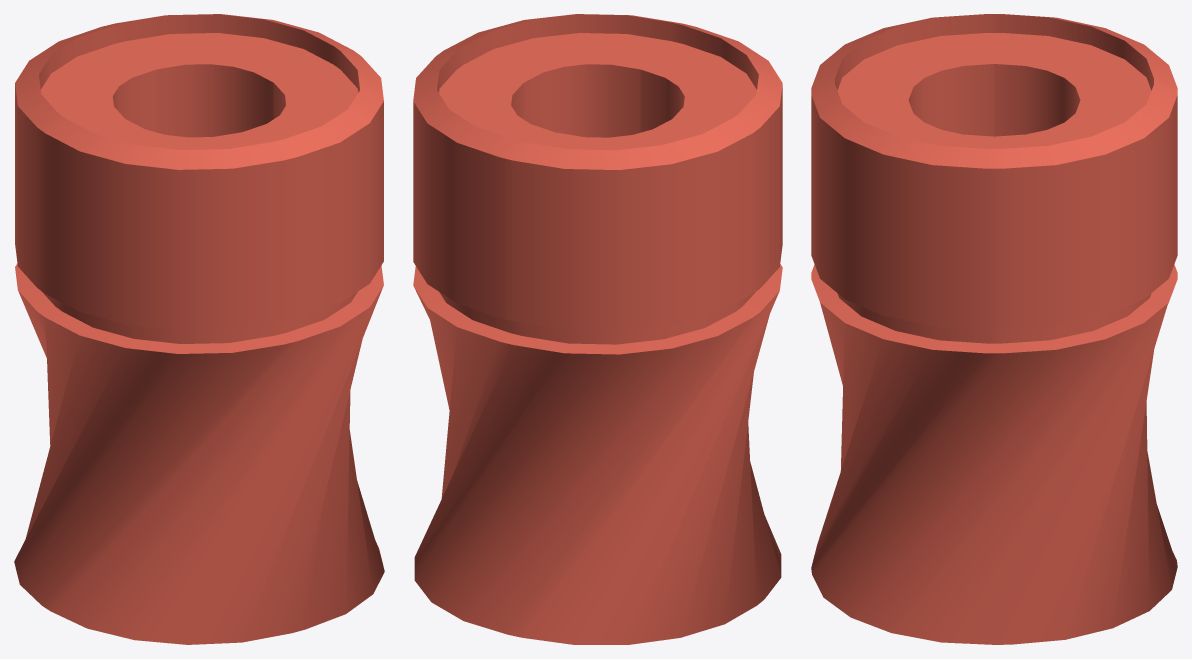
File: BOMBAS.fbx
3 views of the same model, side by side, from view 1: azimuth 30°, elevation 25°; view 2: azimuth 150°, elevation 25°; view 3: azimuth 270°, elevation 25° (orthographic).
Visible parts, largest first — view 1: BOMBA; view 2: BOMBA; view 3: BOMBA.
Boxes of the visible parts, x1,y1,x2,y2 form: BOMBA: (14,14,384,644); BOMBA: (413,14,782,644); BOMBA: (811,14,1177,644).
Bounding box in the file's own units: 99.41 × 145 × 99.41.
